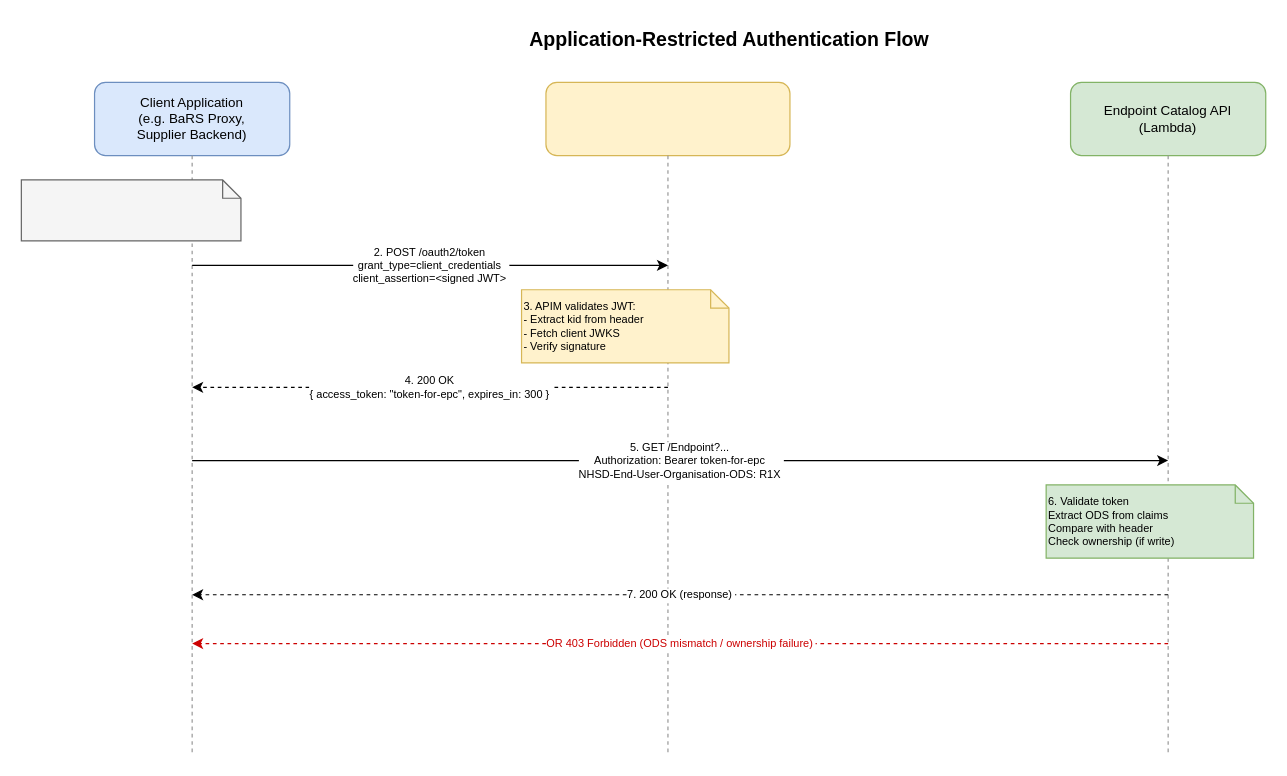
This 1287x776 diagram has some shape labels left out. Here are the shapes that lost their labels. From the top down, the centre of each, then its label:
(667,118): NHS England API Platform (APIM / OAuth Token Endpoint)
(130,210): 1. Construct signed JWT (client_id, exp, jti, signed with private key)
